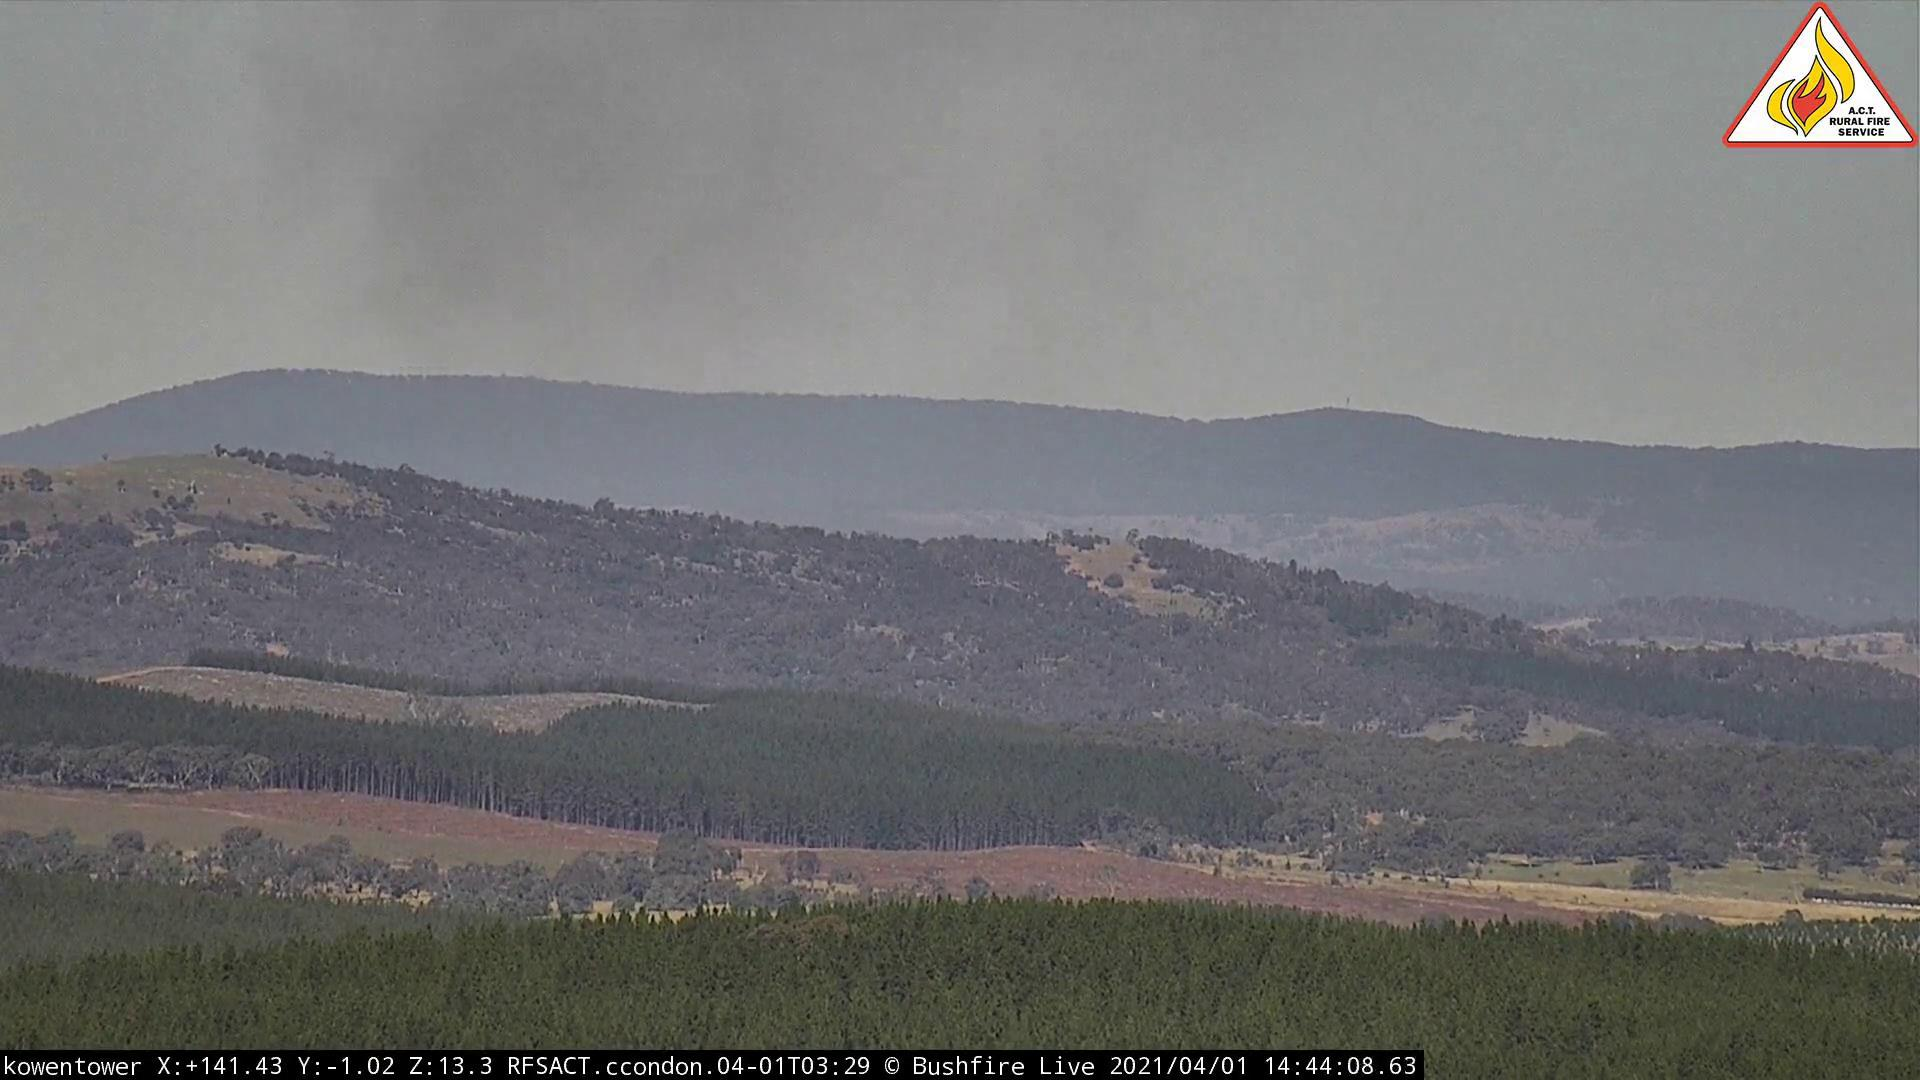Smoke: (276, 3, 1133, 411)
